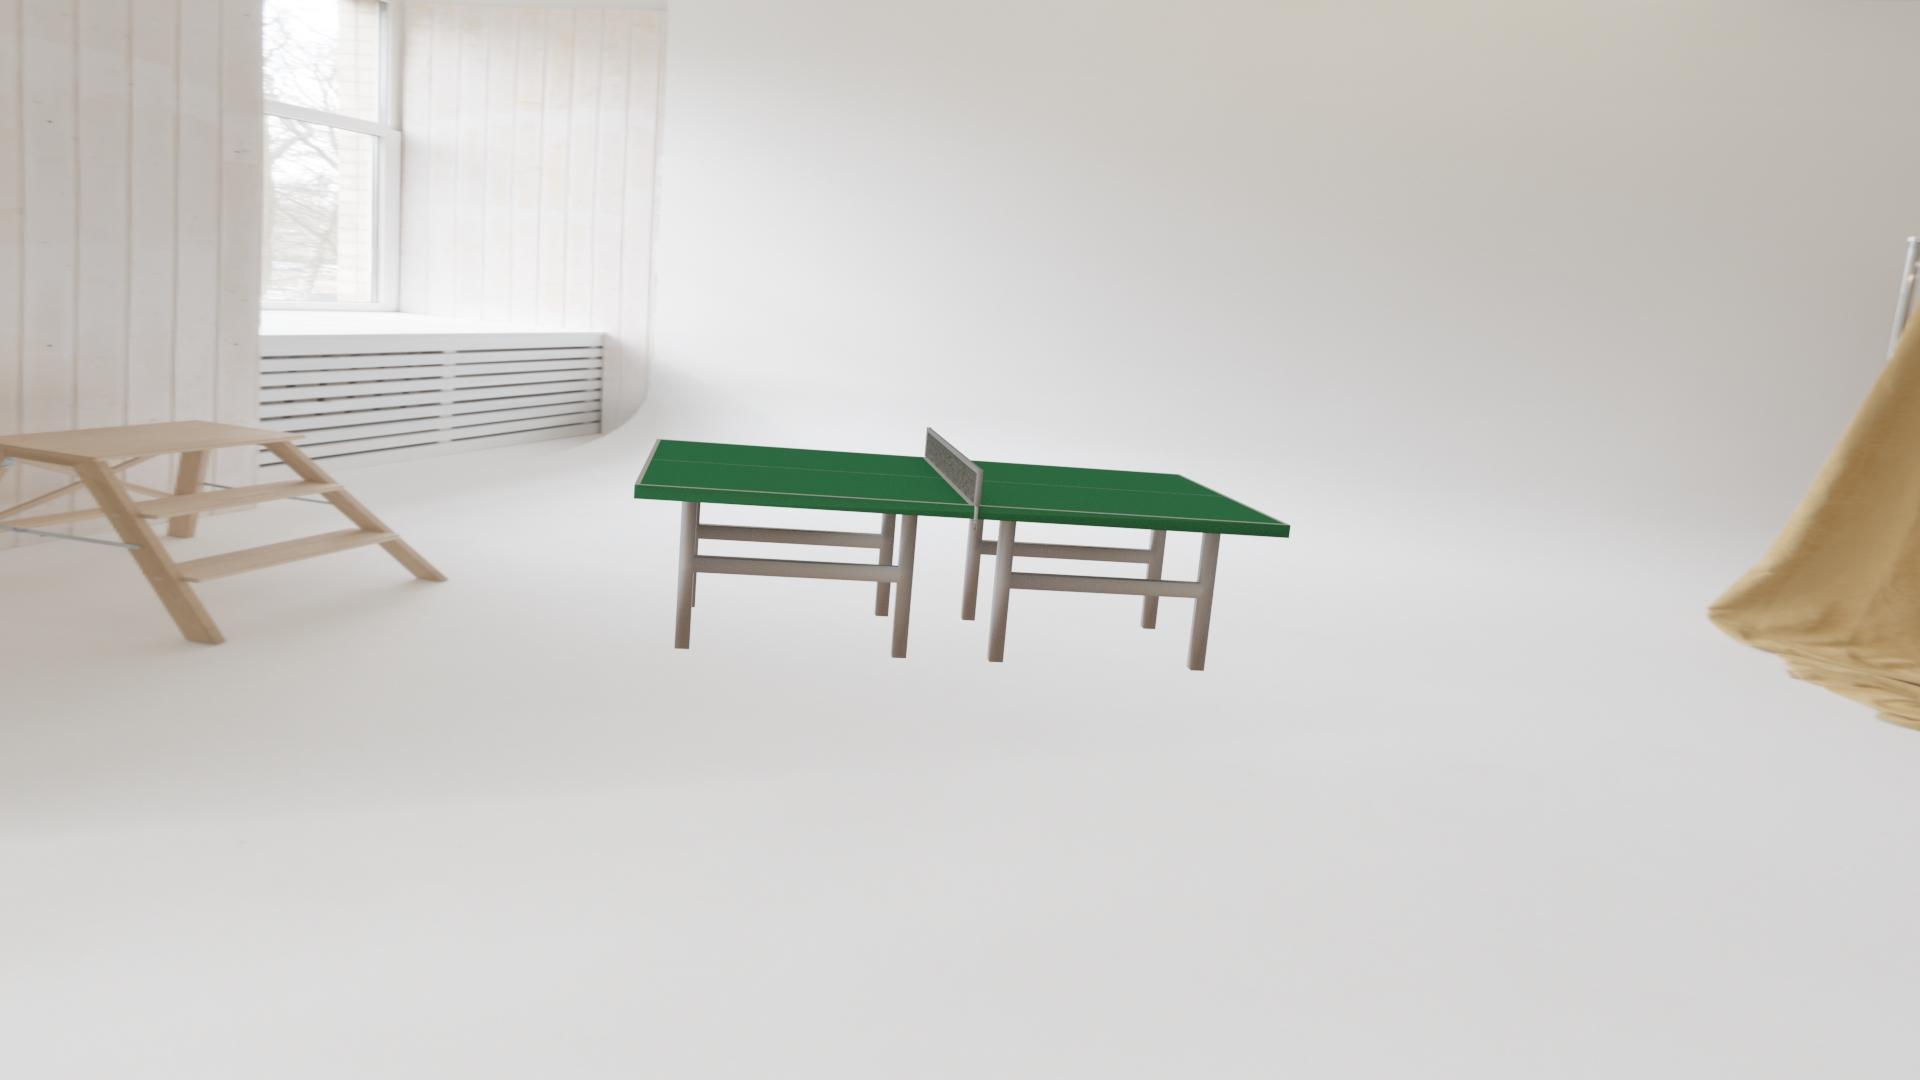table: (640, 439, 1284, 524)
